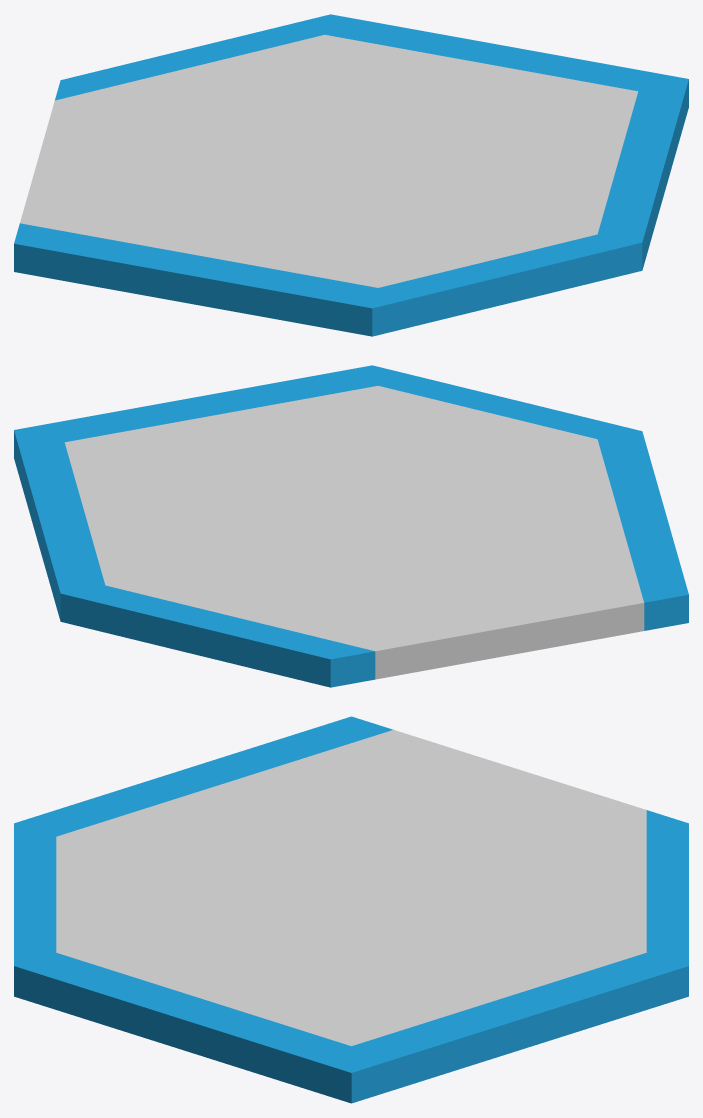
3 renders of one model, top to bottom at view 1: azimuth 30°, elevation 25°; view 2: azimuth 150°, elevation 25°; view 3: azimuth 270°, elevation 25°, orthographic. The views are drawn at different scales.
Parts seen in each view (by area): view 1: Hexagon, SW, Sx, SEx, NEx, N.001; view 2: Hexagon, N.001, SW, NEx, SEx, Sx; view 3: Hexagon, SEx, NEx, SW, N.001, Sx.
Part boxes in pixels (left/top/right/bottom): Hexagon: left=20, top=35, right=638, bottom=287; SW: left=14, top=223, right=377, bottom=336; Sx: left=372, top=234, right=642, bottom=336; SEx: left=598, top=79, right=688, bottom=269; NEx: left=325, top=14, right=687, bottom=91; N.001: left=55, top=14, right=330, bottom=100; Hexagon: left=64, top=386, right=644, bottom=679; N.001: left=60, top=585, right=375, bottom=687; SW: left=597, top=431, right=688, bottom=630; NEx: left=14, top=430, right=104, bottom=620; SEx: left=15, top=365, right=377, bottom=442; Sx: left=372, top=365, right=641, bottom=439; Hexagon: left=56, top=730, right=646, bottom=1045; SEx: left=14, top=952, right=351, bottom=1103; NEx: left=351, top=952, right=688, bottom=1103; SW: left=14, top=716, right=393, bottom=836; N.001: left=646, top=810, right=688, bottom=965; Sx: left=14, top=823, right=56, bottom=965.
Bounding box in the file's own units: 5 × 4 × 0.2.
